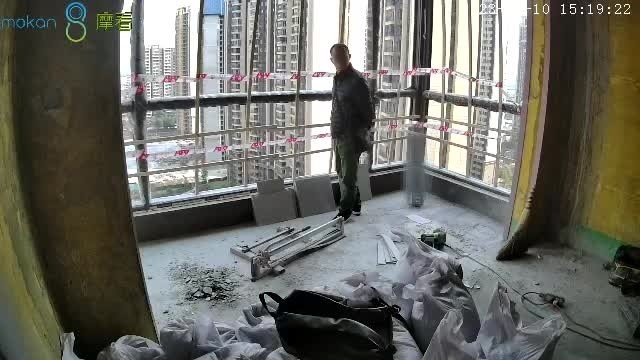people: (326, 44, 374, 221)
window: (119, 1, 527, 210)
